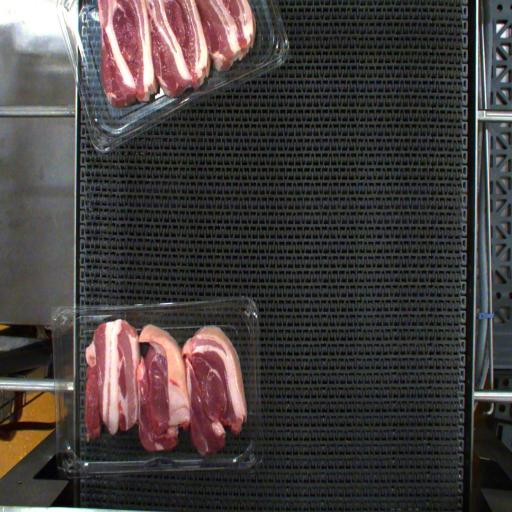twisted-meat: (143, 332, 188, 432)
